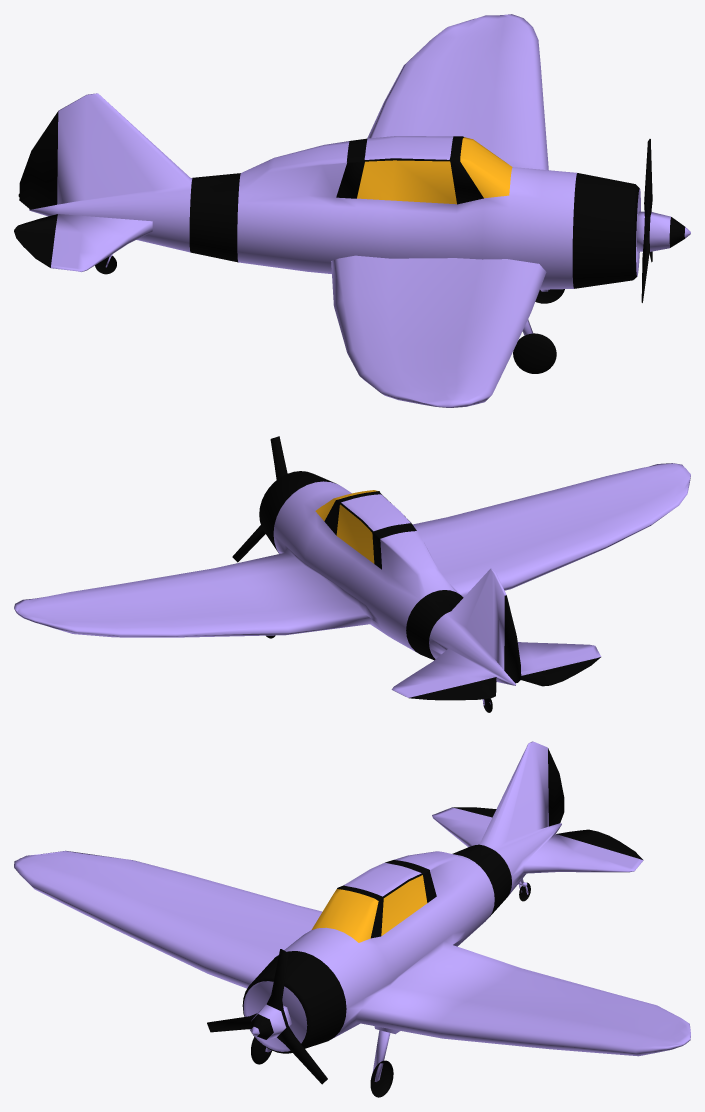
The model's file is ToyObject_228.fbx.
3 views of the same model, one above another, from view 1: azimuth 30°, elevation 25°; view 2: azimuth 150°, elevation 25°; view 3: azimuth 270°, elevation 25° (orthographic). The views are drawn at different scales.
Parts seen in each view (by area): view 1: Object.078; view 2: Object.078; view 3: Object.078.
Boxes of the visible parts, bbox=[...] form: Object.078: bbox=[14, 14, 690, 407]; Object.078: bbox=[14, 436, 690, 712]; Object.078: bbox=[14, 741, 690, 1097].
Bounding box in the file's own units: 0.201 × 0.0754 × 0.2291.
